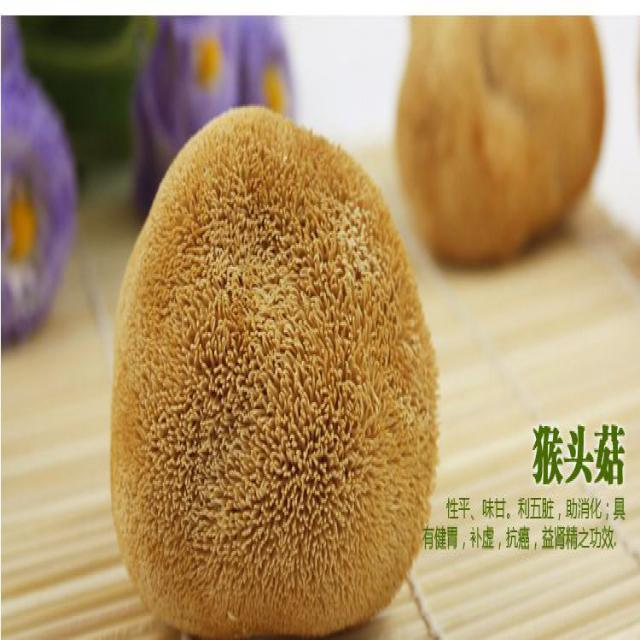Hericium erinaceus: (109, 107, 441, 638)
